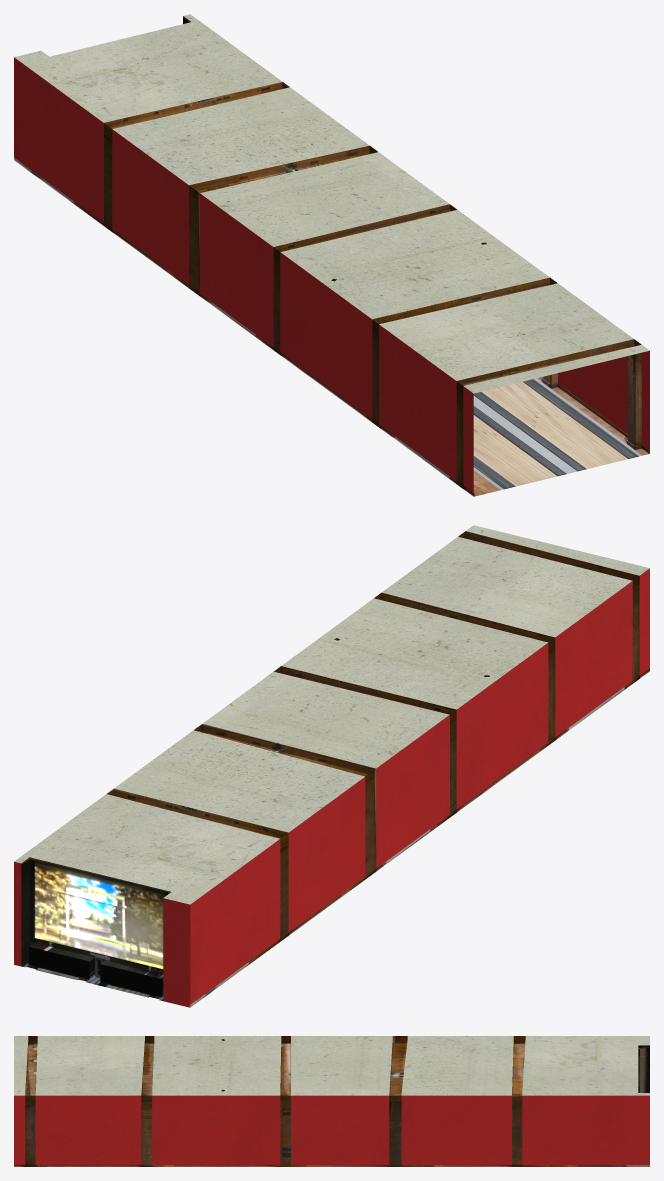
The model's file is bowling_alley_low.glb.
The picture shows the model from 3 angles, top to bottom: view 1: azimuth 30°, elevation 25°; view 2: azimuth 150°, elevation 25°; view 3: azimuth 270°, elevation 25°; orthographic projection. The views are drawn at different scales.
Visible parts, largest first — view 1: BowlingAlley; view 2: BowlingAlley; view 3: BowlingAlley.
Part boxes in pixels (x1,y1,x2,y2): BowlingAlley: (14, 14, 649, 496); BowlingAlley: (14, 525, 649, 1007); BowlingAlley: (14, 1036, 649, 1166).
Bounding box in the file's own units: 5.65 × 3.16 × 25.51.
Materials: 8 (6 with a texture image).
